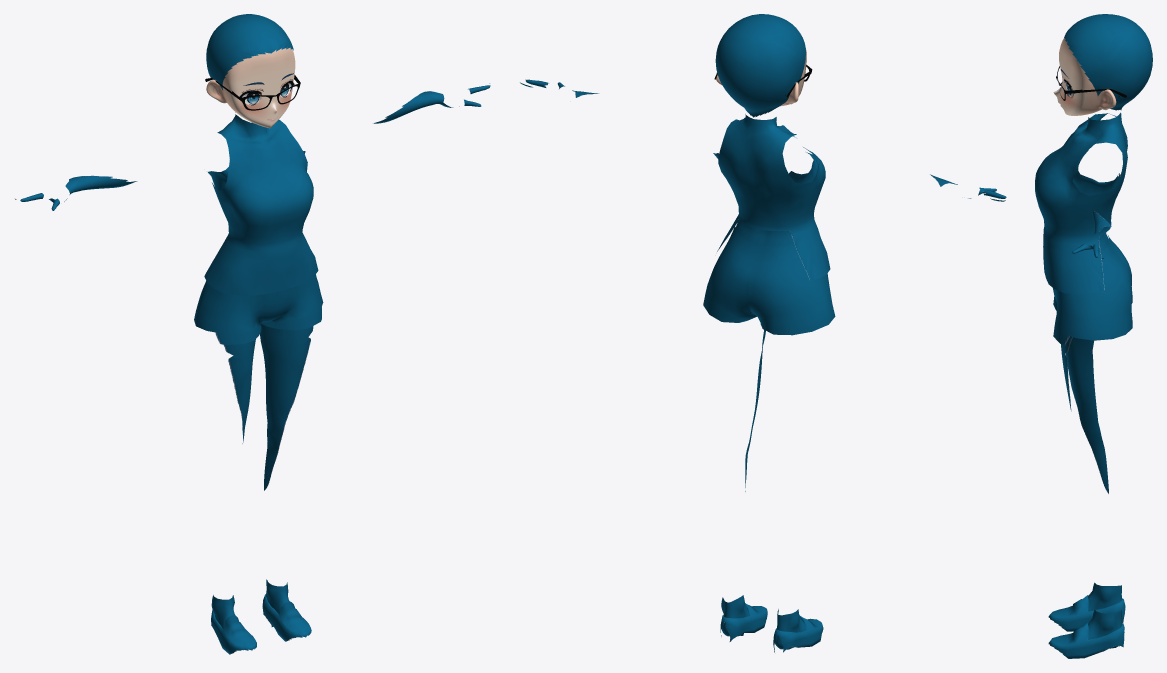
File: ship_chan.glb
The picture shows the model from 3 angles, left to right: view 1: azimuth 30°, elevation 25°; view 2: azimuth 150°, elevation 25°; view 3: azimuth 270°, elevation 25°; orthographic projection. The views are drawn at different scales.
Parts seen in each view (by area): view 1: Body; view 2: Body; view 3: Body.
Boxes of the visible parts, x1,y1,x2,y2 form: Body: (15, 14, 490, 654); Body: (520, 14, 1006, 652); Body: (1035, 14, 1152, 658).
Size of the model in its own units: 1.31 by 1.62 by 0.278.
11 materials, 11 textured.
